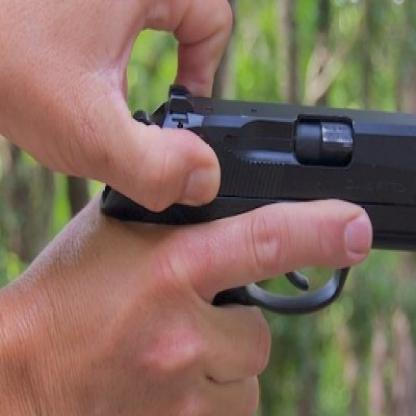gun: (75, 83, 415, 325)
